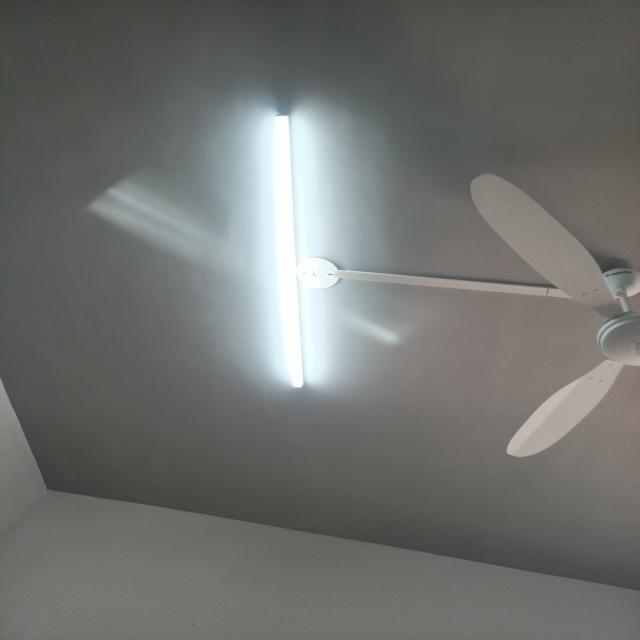light_on: (266, 107, 318, 397)
